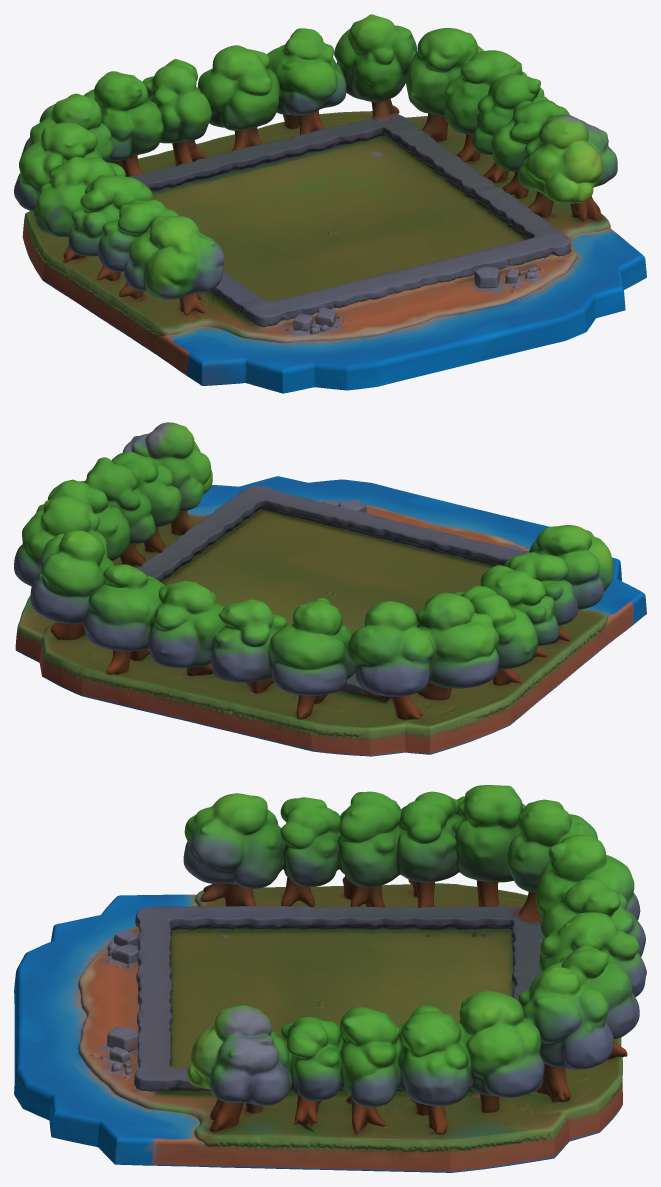
File: square_base.glb
3 views of the same model, one above another, from view 1: azimuth 30°, elevation 25°; view 2: azimuth 150°, elevation 25°; view 3: azimuth 270°, elevation 25° (orthographic). The views are drawn at different scales.
Bounding box in the file's own units: 2 × 0.5163 × 1.96.
1 material, 1 textured.
